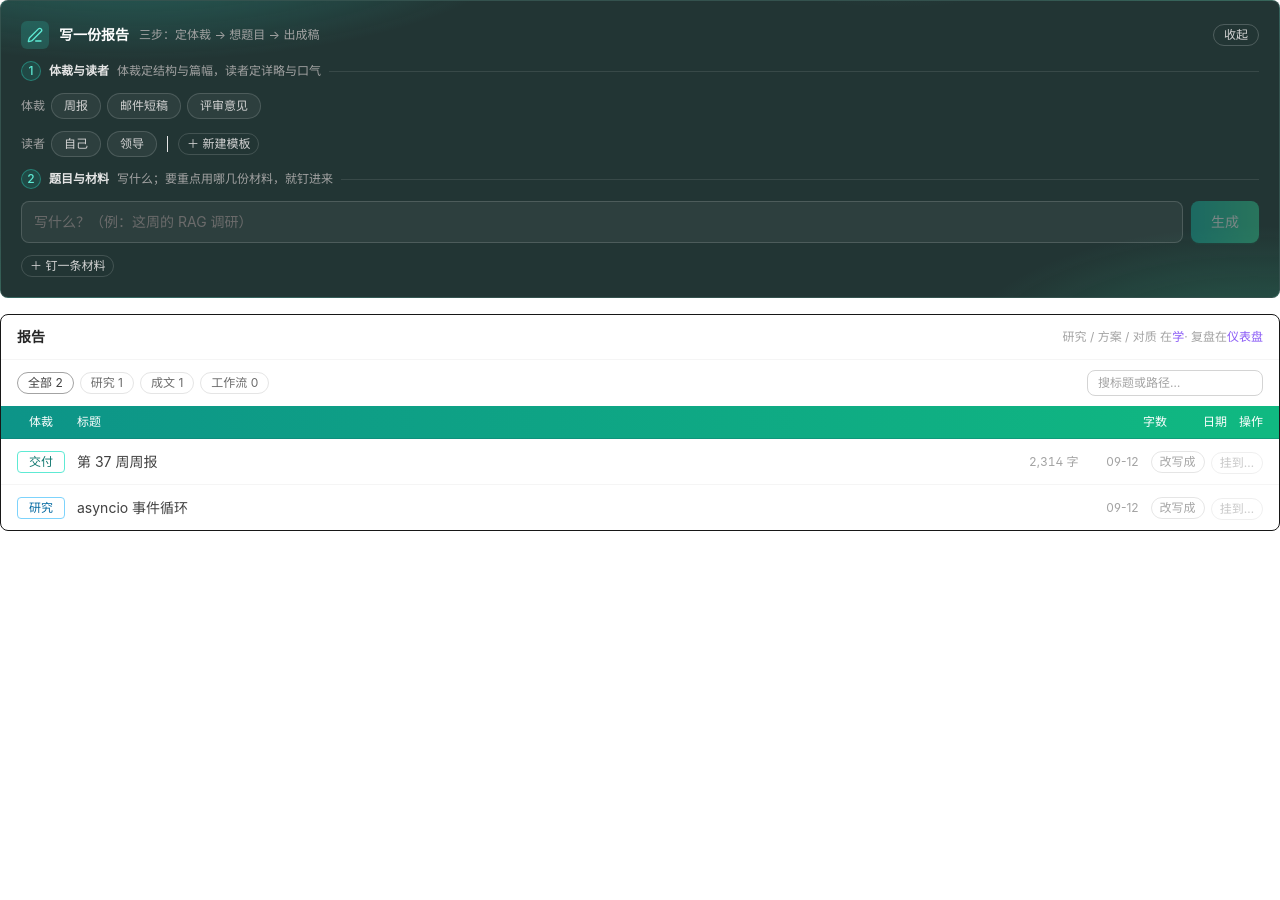
Test: ReportPage · 生成面板（§8.1） › 成品字数与约页数：折条旁看得见一份成品的规模
Expected: the button "周报" is shown, left=51, top=93, right=101, bottom=119
Type "这周的 RAG" into the field with placeholder "写什么？（例：这周的 RAG 调研）" at coordinates (602, 222), box left=21, top=201, right=1183, bottom=243
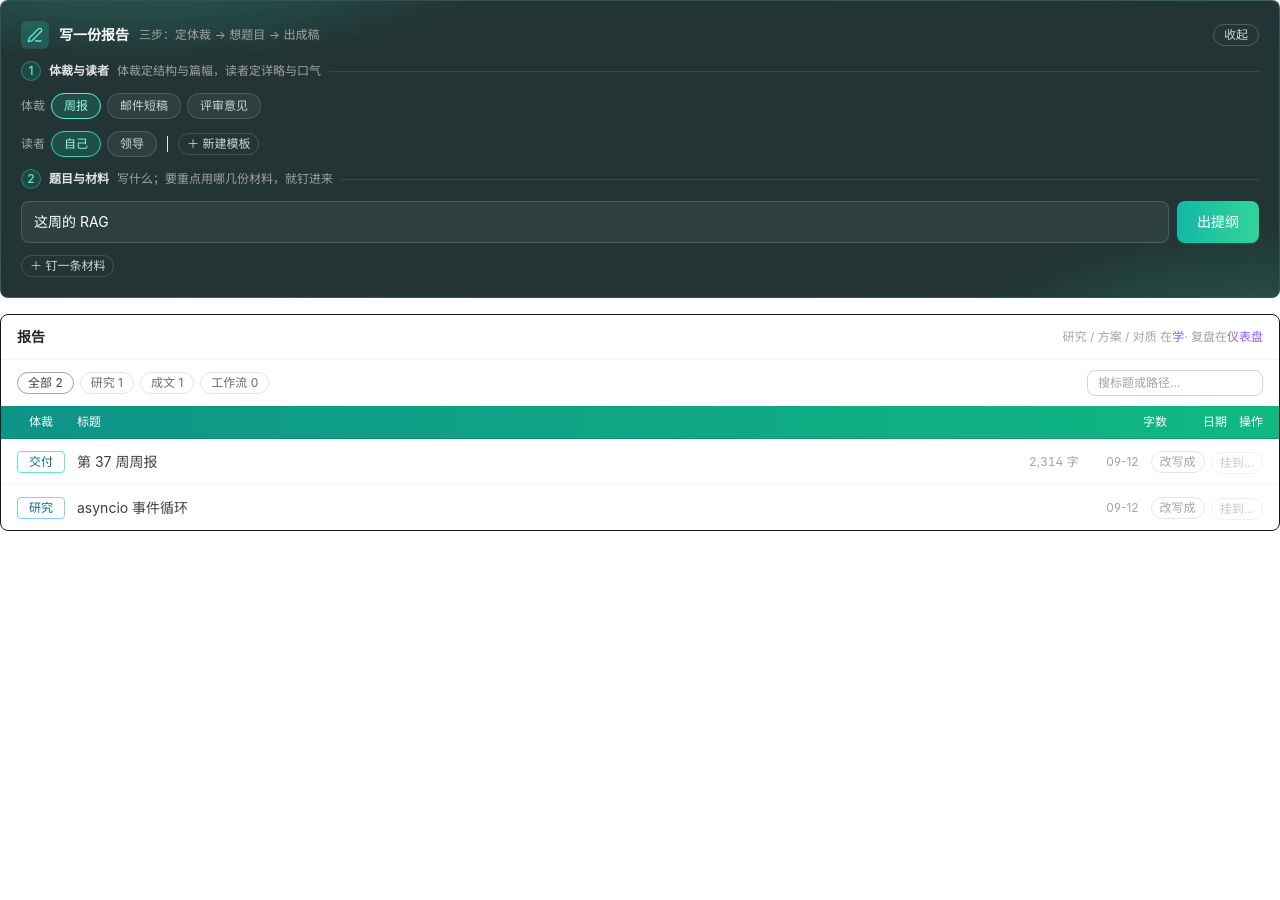
Click the button "出提纲" at coordinates (1218, 222), box left=1177, top=201, right=1259, bottom=243
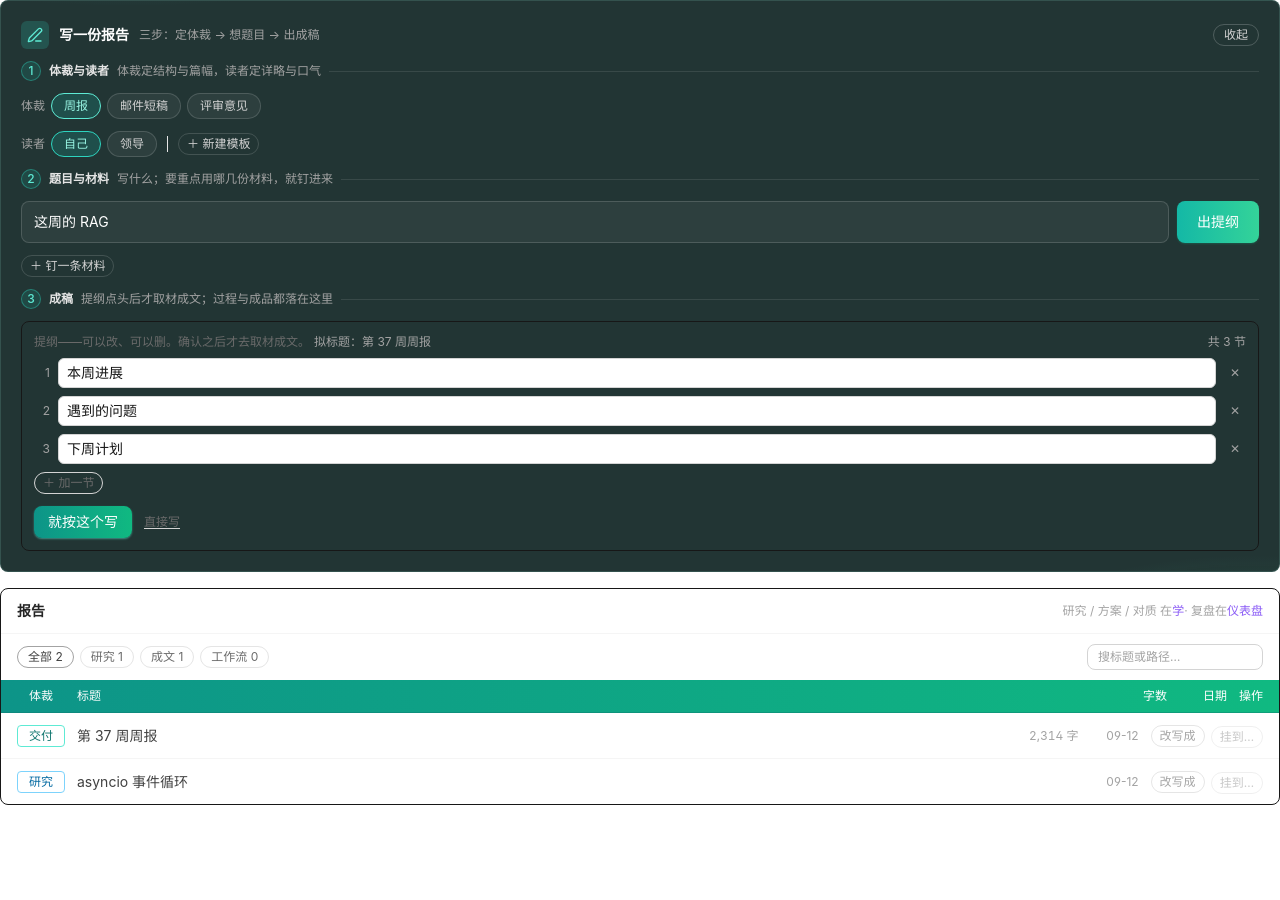
Click the button "就按这个写" at coordinates (83, 522), box left=34, top=506, right=132, bottom=538
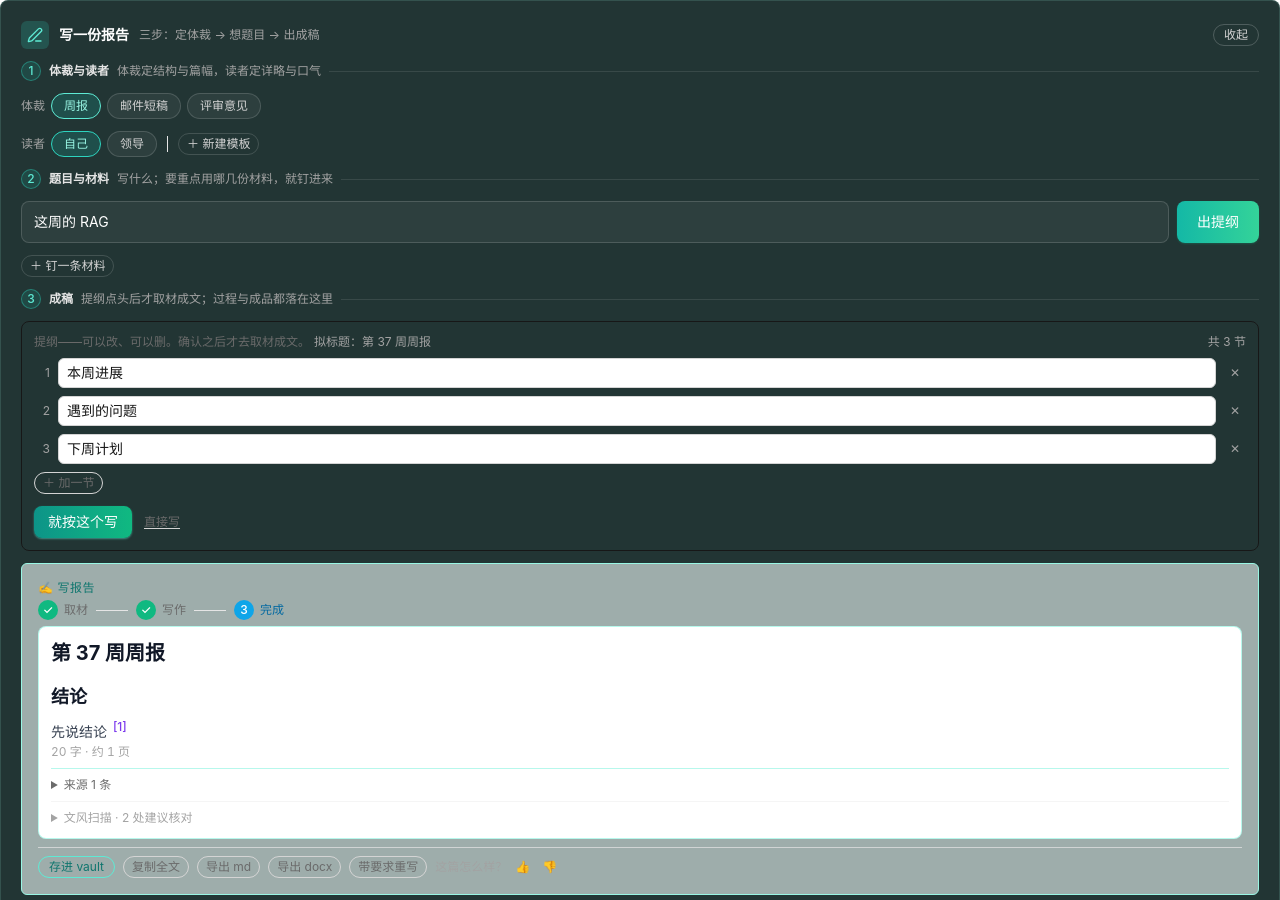
Result: the heading "文风扫描 · 2 处建议核对" is shown at left=64, top=810, right=193, bottom=825
Result: the text "20 字 · 约 1 页" is shown at left=51, top=744, right=130, bottom=759
